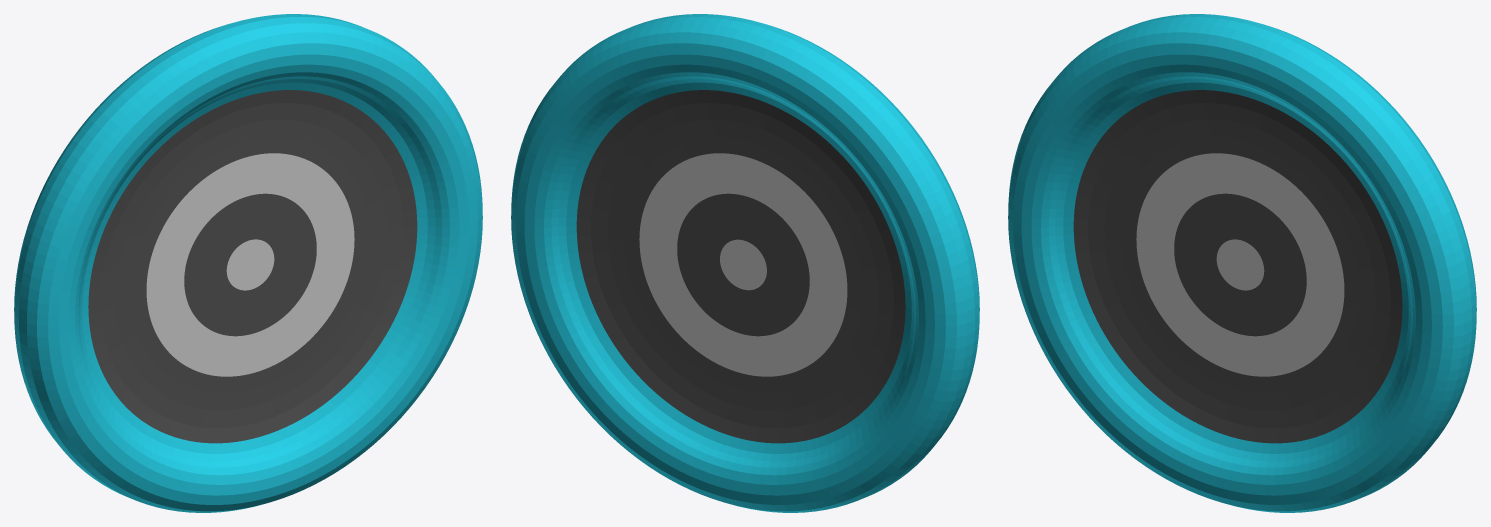
Rendered from Trampoline.fbx.
The picture shows the model from 3 angles, left to right: view 1: azimuth 30°, elevation 25°; view 2: azimuth 150°, elevation 25°; view 3: azimuth 330°, elevation 25°; orthographic projection.
Visible parts, largest first — view 1: Cylinder; view 2: Cylinder; view 3: Cylinder.
Part boxes in pixels (x1,y1,x2,y2): Cylinder: (14,14,482,512); Cylinder: (511,14,979,512); Cylinder: (1008,14,1476,512).
Size of the model in its own units: 1578 by 1578 by 188.
